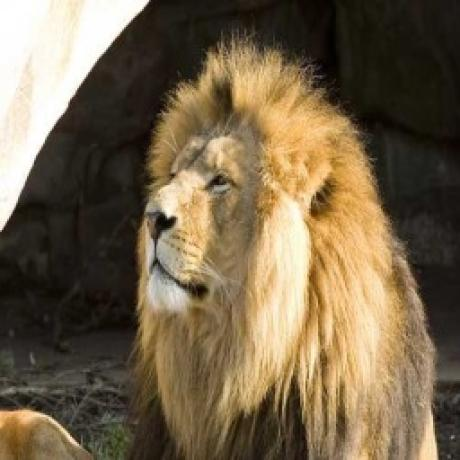Lion: (130, 29, 440, 460)
